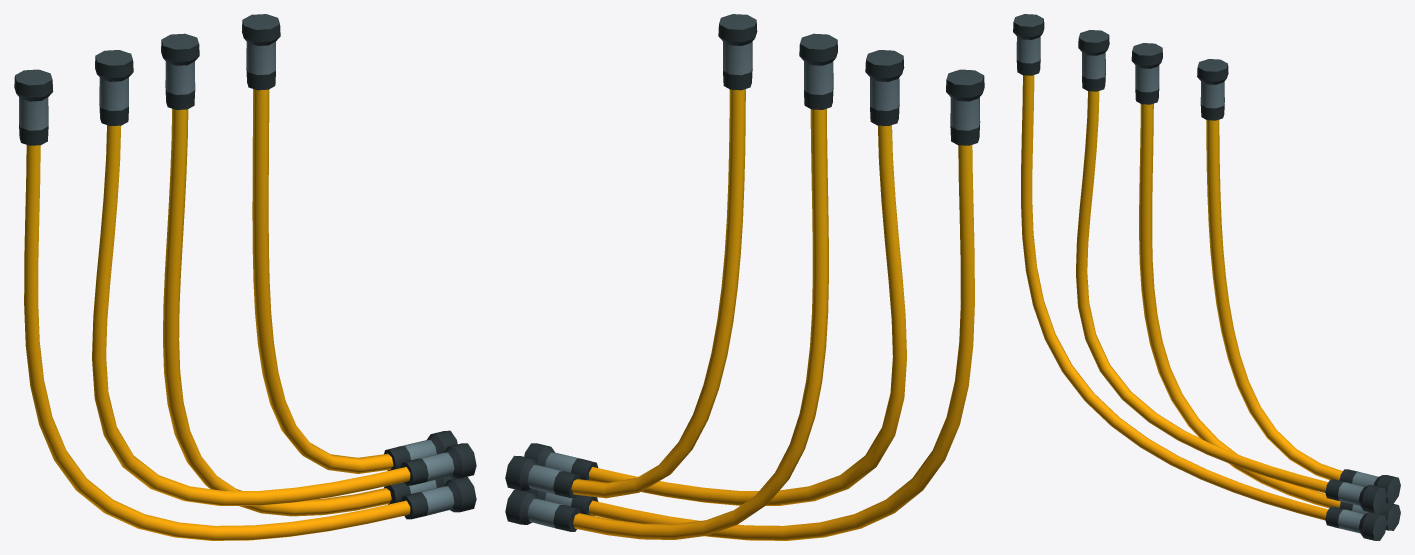
Rendered from Cable_type_C_001.glb.
The picture shows the model from 3 angles, left to right: view 1: azimuth 30°, elevation 25°; view 2: azimuth 150°, elevation 25°; view 3: azimuth 330°, elevation 25°; orthographic projection. The views are drawn at different scales.
Visible parts, largest first — view 1: Cable_type_C_001; view 2: Cable_type_C_001; view 3: Cable_type_C_001.
Part boxes in pixels (<box>): Cable_type_C_001: <box>14,14,476,540</box>; Cable_type_C_001: <box>505,14,984,540</box>; Cable_type_C_001: <box>1013,14,1400,540</box>.
Size of the model in its own units: 1.16 by 1.32 by 0.1595.
Materials: 1 (1 with a texture image).
